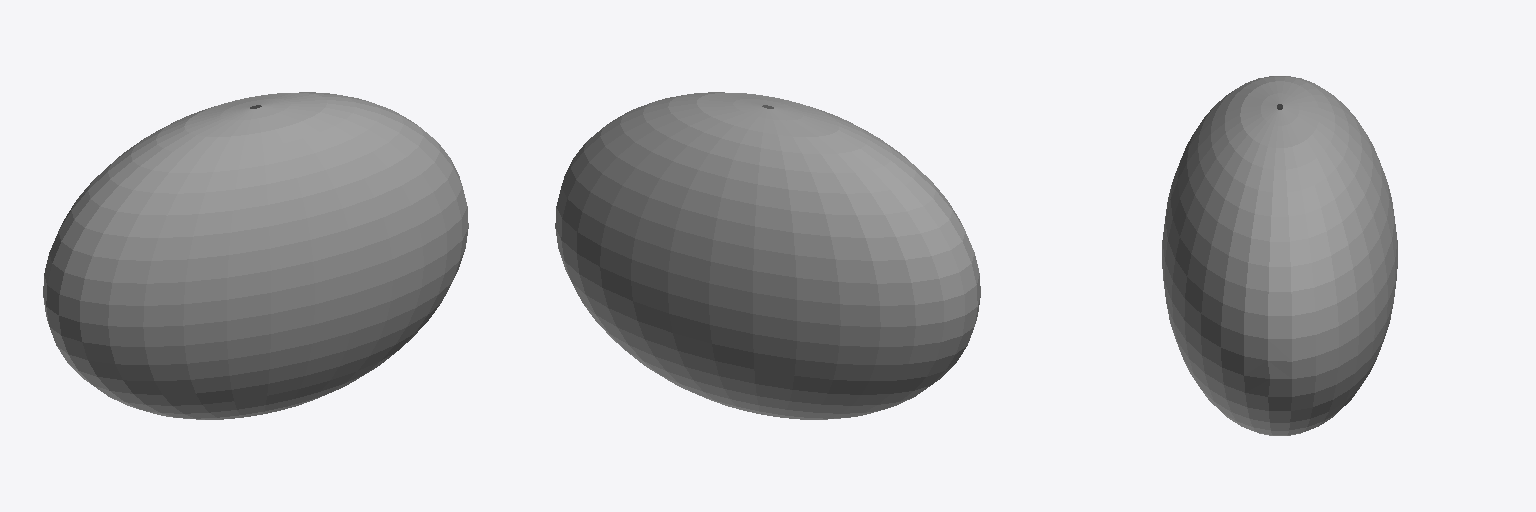
Rendered from asteroidLP.obj.
3 views of the same model, side by side, from view 1: azimuth 30°, elevation 25°; view 2: azimuth 150°, elevation 25°; view 3: azimuth 270°, elevation 25° (orthographic).
Parts seen in each view (by area): view 1: Asteroid1_Sphere.003; view 2: Asteroid1_Sphere.003; view 3: Asteroid1_Sphere.003.
Boxes of the visible parts, box(x1,y1,x2,y2) form: Asteroid1_Sphere.003: box(43, 92, 468, 419); Asteroid1_Sphere.003: box(555, 92, 980, 419); Asteroid1_Sphere.003: box(1162, 76, 1397, 435).
Bounding box in the file's own units: 1.97 × 1.38 × 0.9915.